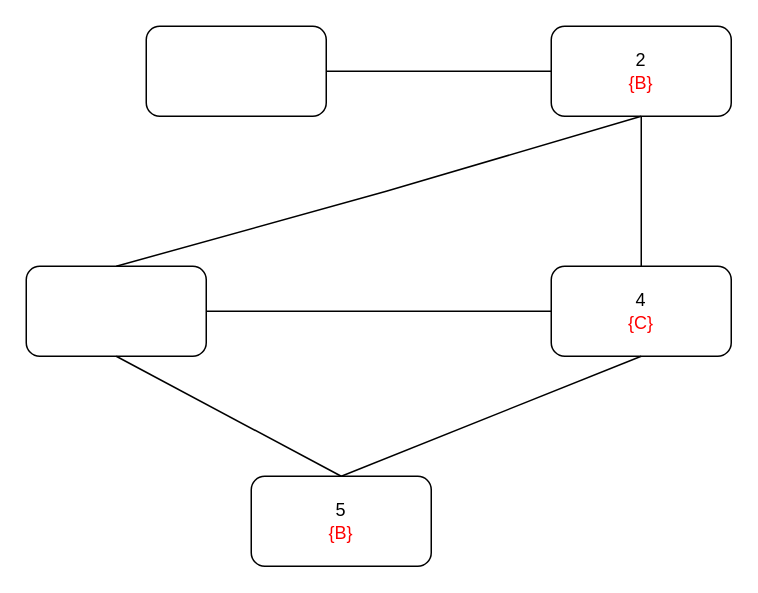
The diagram is 758 pixels wide and 593 high, and some of its shapes have lost their labels. Each missing label, with the centre of its shape:
"1 {C}" belongs at point 235,70.
"3 {A}" belongs at point 115,310.
